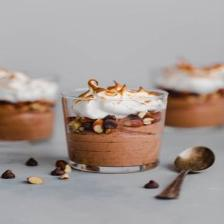brown: (68, 121, 164, 170), (166, 90, 224, 128), (0, 101, 54, 141), (0, 111, 53, 141)
